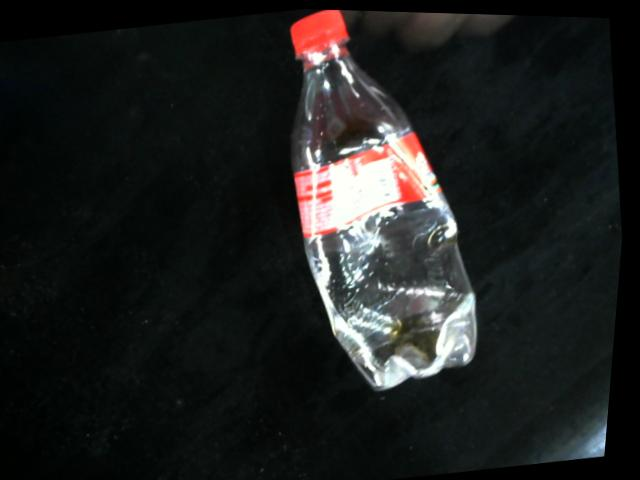bottle: (289, 7, 486, 392)
